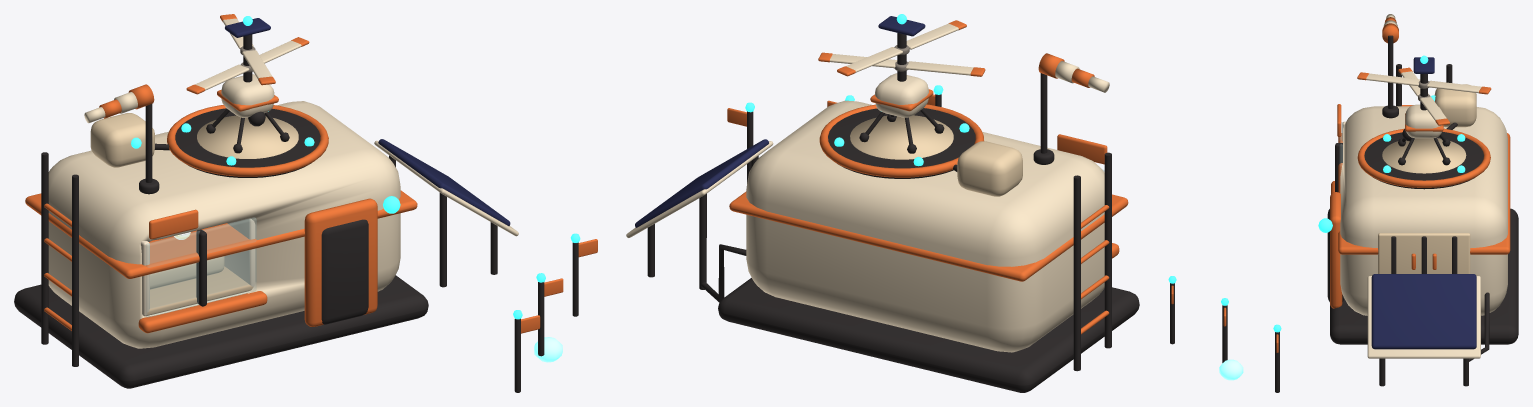
File: geolocator-6.glb
3 views of the same model, side by side, from view 1: azimuth 30°, elevation 25°; view 2: azimuth 150°, elevation 25°; view 3: azimuth 270°, elevation 25° (orthographic). The views are drawn at different scales.
Parts seen in each view (by area): view 1: Cube.001, Cube, Cube.016, Cube.002, Cube.020, Cube.019, Cylinder, Cylinder.001, Cube.032, Torus.003, Cube.011, Cube.017 (+17 smaller); view 2: Cube.001, Cube, Cube.002, Cylinder, Cylinder.001, Cube.032, Torus.003, Cube.021, Cube.033, pipe.006, pipe.005, Cube.009 (+8 smaller); view 3: Cube.001, Cube.033, Cube, Cube.003, Cylinder.001, Cylinder, Cube.034, Torus.003, Cube.002, Cube.032, Cube.019, Cube.021 (+7 smaller).
Part boxes in pixels (x1,y1,x2,y2): Cube.001: (48,101,400,348); Cube: (14,275,428,388); Cube.016: (146,217,256,317); Cube.002: (25,190,417,278); Cube.020: (321,219,368,324); Cube.019: (304,198,377,326); Cylinder: (175,108,320,177); Cylinder.001: (197,115,298,158); Cube.032: (90,113,154,167); Torus.003: (167,105,328,176); Cube.011: (147,266,253,315); Cube.017: (138,291,267,333); Cube.001: (746,100,1104,352); Cube: (718,278,1139,392); Cube.002: (729,191,1128,281); Cylinder: (828,108,975,178); Cylinder.001: (850,115,953,159); Cube.032: (957,141,1022,196); Torus.003: (819,104,983,177); Cube.021: (875,73,928,117); Cube.033: (635,139,768,227); pipe.006: (1073,175,1080,371); pipe.005: (1104,152,1111,348); Cube.009: (1057,134,1107,164); Cube.001: (1340,106,1507,315); Cube.033: (1371,274,1476,349); Cube: (1330,208,1518,344); Cube.003: (1378,233,1470,273); Cylinder.001: (1382,138,1466,173); Cylinder: (1364,131,1483,189); Cube.034: (1367,276,1480,358); Torus.003: (1357,128,1490,187); Cube.002: (1338,133,1510,254); Cube.032: (1434,84,1476,127); Cube.019: (1330,192,1342,308); Cube.021: (1405,104,1442,138).
Size of the model in its own units: 2.04 by 1.31 by 1.67.
